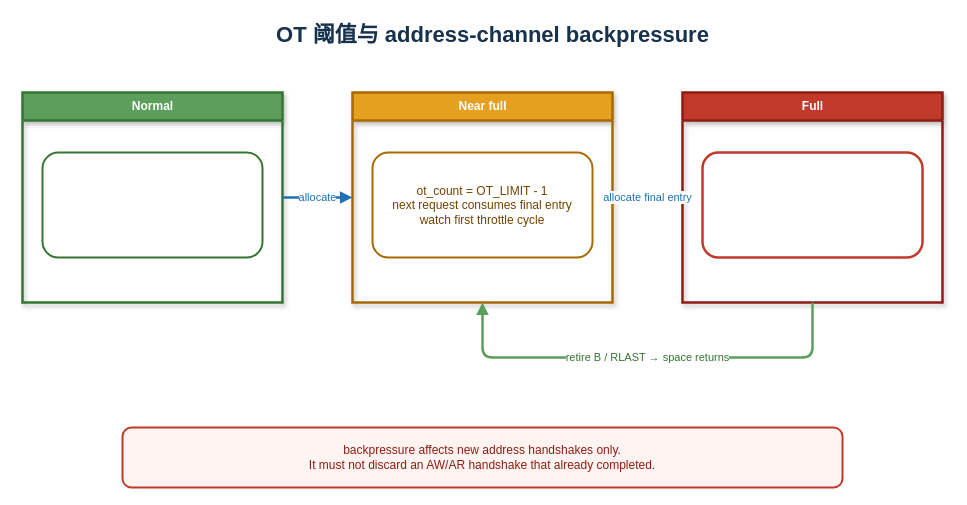
The diagram is 967 pixels wide and 505 high, and some of its shapes have lost their labels. Each missing label, with the centre of its shape:
"ot_count < OT_LIMIT AWREADY / ARREADY may be 1 new AW / AR handshake allowed" goes at [152,204].
"ot_count = OT_LIMIT block new AW / AR acceptance AWREADY and/or ARREADY = 0" goes at [812,204].
